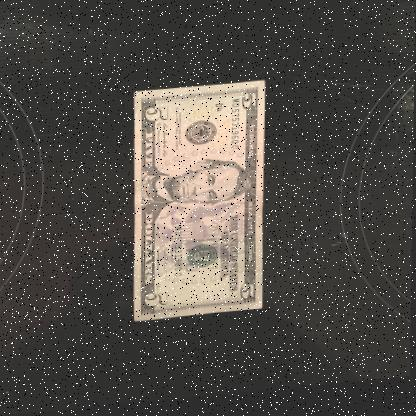five-front: (131, 82, 267, 324)
